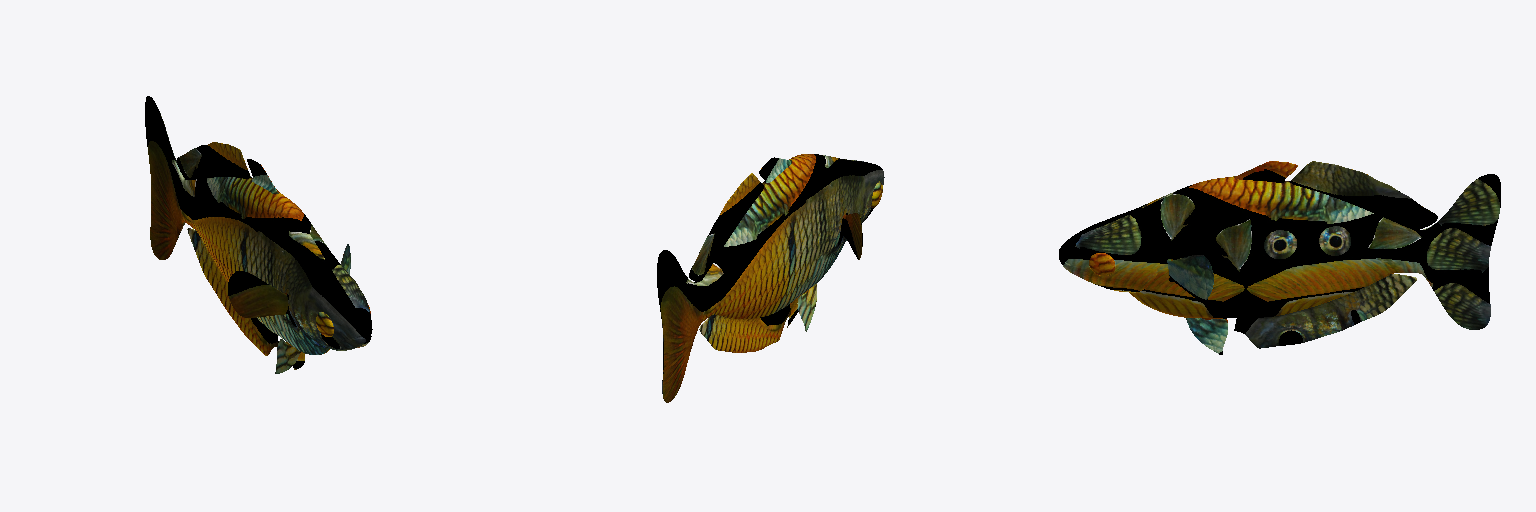
The picture shows the model from 3 angles: view 1: azimuth 30°, elevation 25°; view 2: azimuth 150°, elevation 25°; view 3: azimuth 270°, elevation 25°; orthographic projection.
Visible parts, largest first — view 1: 12999_Boesemani_Rainbow_v1_l2; view 2: 12999_Boesemani_Rainbow_v1_l2; view 3: 12999_Boesemani_Rainbow_v1_l2.
Boxes of the visible parts, x1=… form: 12999_Boesemani_Rainbow_v1_l2: x1=145, y1=96, x2=372, y2=373; 12999_Boesemani_Rainbow_v1_l2: x1=657, y1=154, x2=884, y2=402; 12999_Boesemani_Rainbow_v1_l2: x1=1059, y1=161, x2=1500, y2=354.
Size of the model in its own units: 3.51 by 5.2 by 10.98.
1 materials, 1 textured.